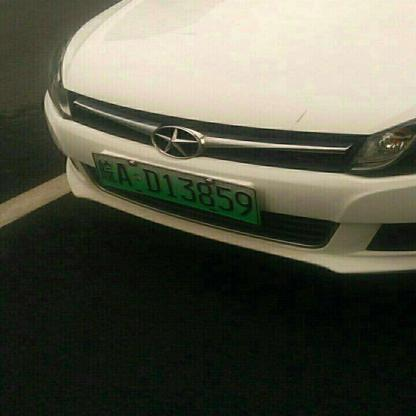lp: (92, 152, 258, 223)
